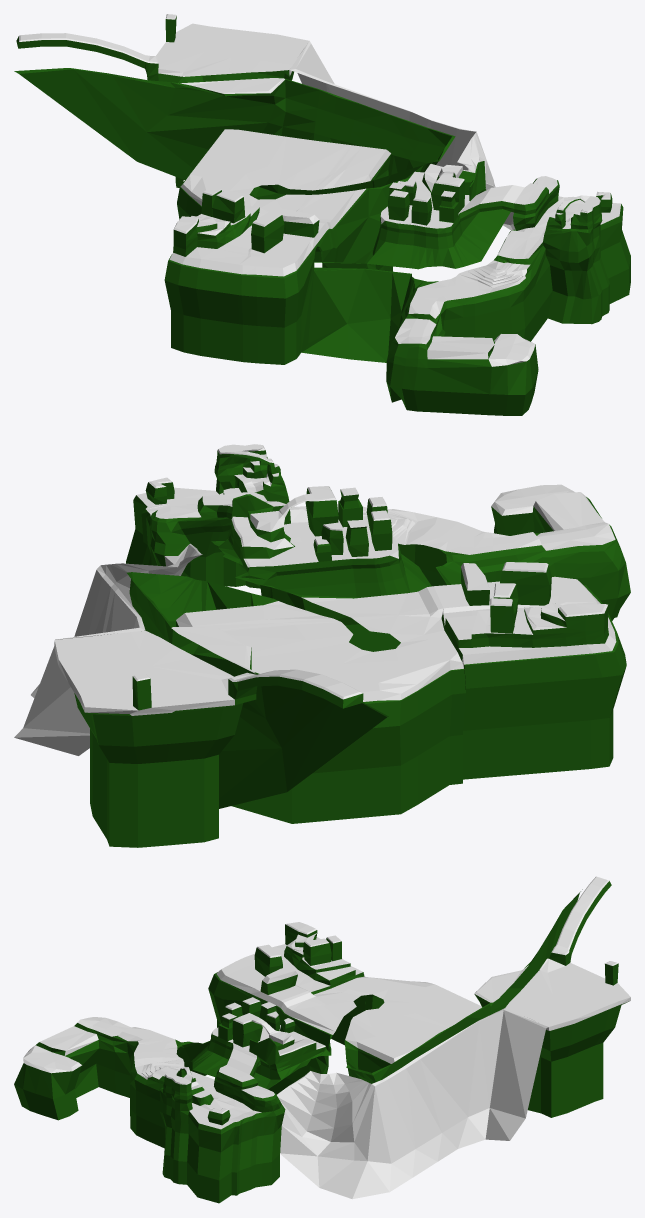
File: ground_route01.FBX
3 renders of one model, top to bottom at view 1: azimuth 30°, elevation 25°; view 2: azimuth 150°, elevation 25°; view 3: azimuth 270°, elevation 25°, orthographic. The views are drawn at different scales.
Visible parts, largest first — view 1: ground_terra, ground_erba, ground_copritorta, ground_erba_basipiccole; view 2: ground_terra, ground_erba, ground_copritorta, ground_erba_basipiccole; view 3: ground_terra, ground_copritorta, ground_erba, ground_erba_basipiccole.
Part boxes in pixels (x1,y1,x2,y2): ground_terra: (14, 16, 630, 415); ground_erba: (19, 23, 620, 366); ground_copritorta: (289, 41, 515, 230); ground_erba_basipiccole: (166, 14, 610, 233); ground_terra: (74, 450, 630, 847); ground_erba: (54, 484, 616, 713); ground_copritorta: (14, 543, 202, 755); ground_erba_basipiccole: (130, 444, 607, 715); ground_terra: (14, 881, 628, 1203); ground_copritorta: (277, 1008, 547, 1199); ground_erba: (23, 876, 630, 1129); ground_erba_basipiccole: (164, 922, 618, 1113).
Bounding box in the file's own units: 98.57 × 40.71 × 142.
